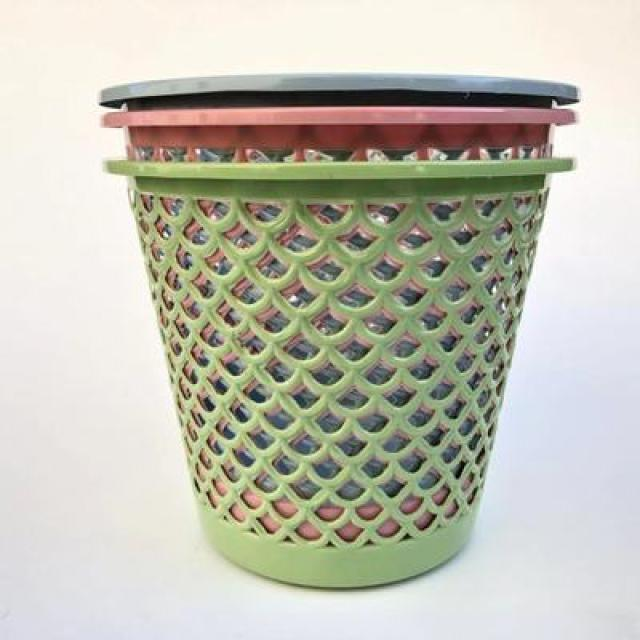dustbin: (86, 65, 585, 601)
